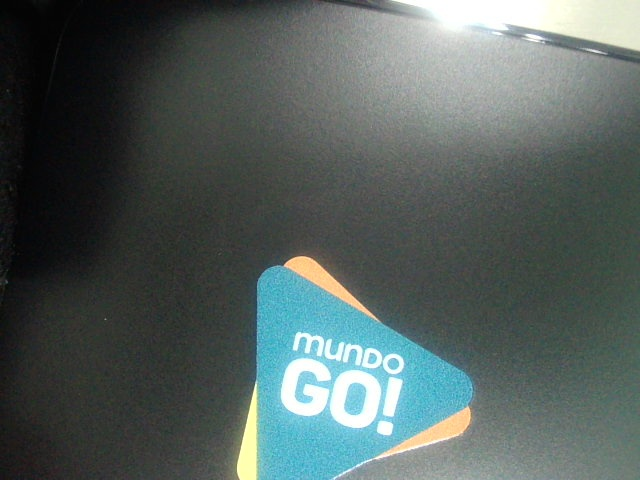AP_IPGMundoGO: (203, 244, 489, 474)
